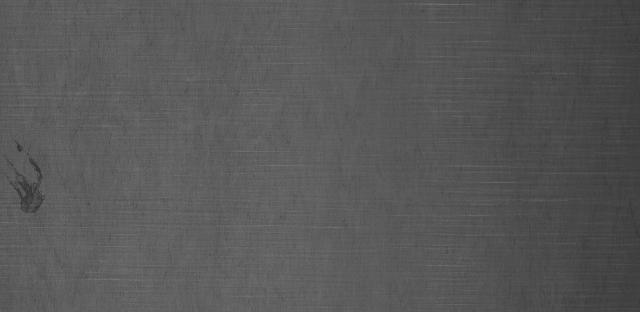water_spot: (0, 128, 52, 226)
